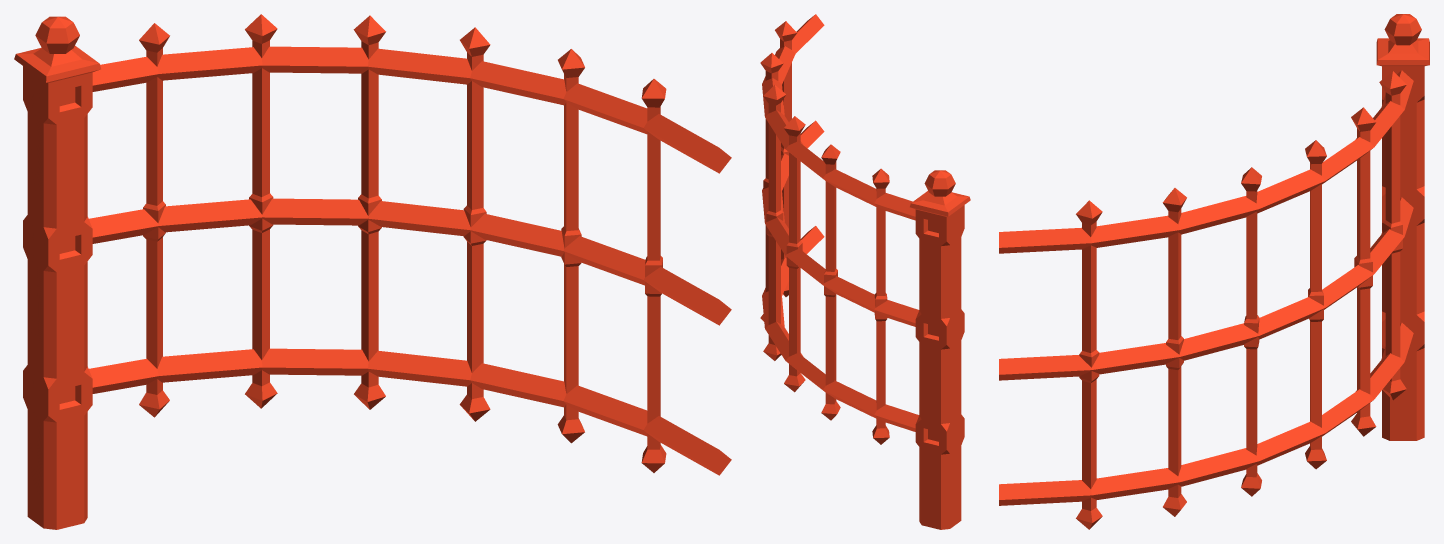
The model's file is SM_Fence_Small_Corner_1m_City.fbx.
3 views of the same model, side by side, from view 1: azimuth 30°, elevation 25°; view 2: azimuth 150°, elevation 25°; view 3: azimuth 270°, elevation 25° (orthographic). The views are drawn at different scales.
Parts seen in each view (by area): view 1: SM_Fence_Small_Corner_1m_City; view 2: SM_Fence_Small_Corner_1m_City; view 3: SM_Fence_Small_Corner_1m_City.
Part boxes in pixels (x1,y1,x2,y2): SM_Fence_Small_Corner_1m_City: (14,14,731,529); SM_Fence_Small_Corner_1m_City: (760,14,970,529); SM_Fence_Small_Corner_1m_City: (999,14,1429,529).
Size of the model in its own units: 1.1 by 1.14 by 1.07.
